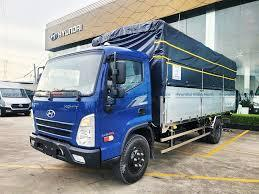hyundai: (43, 109, 56, 120)
